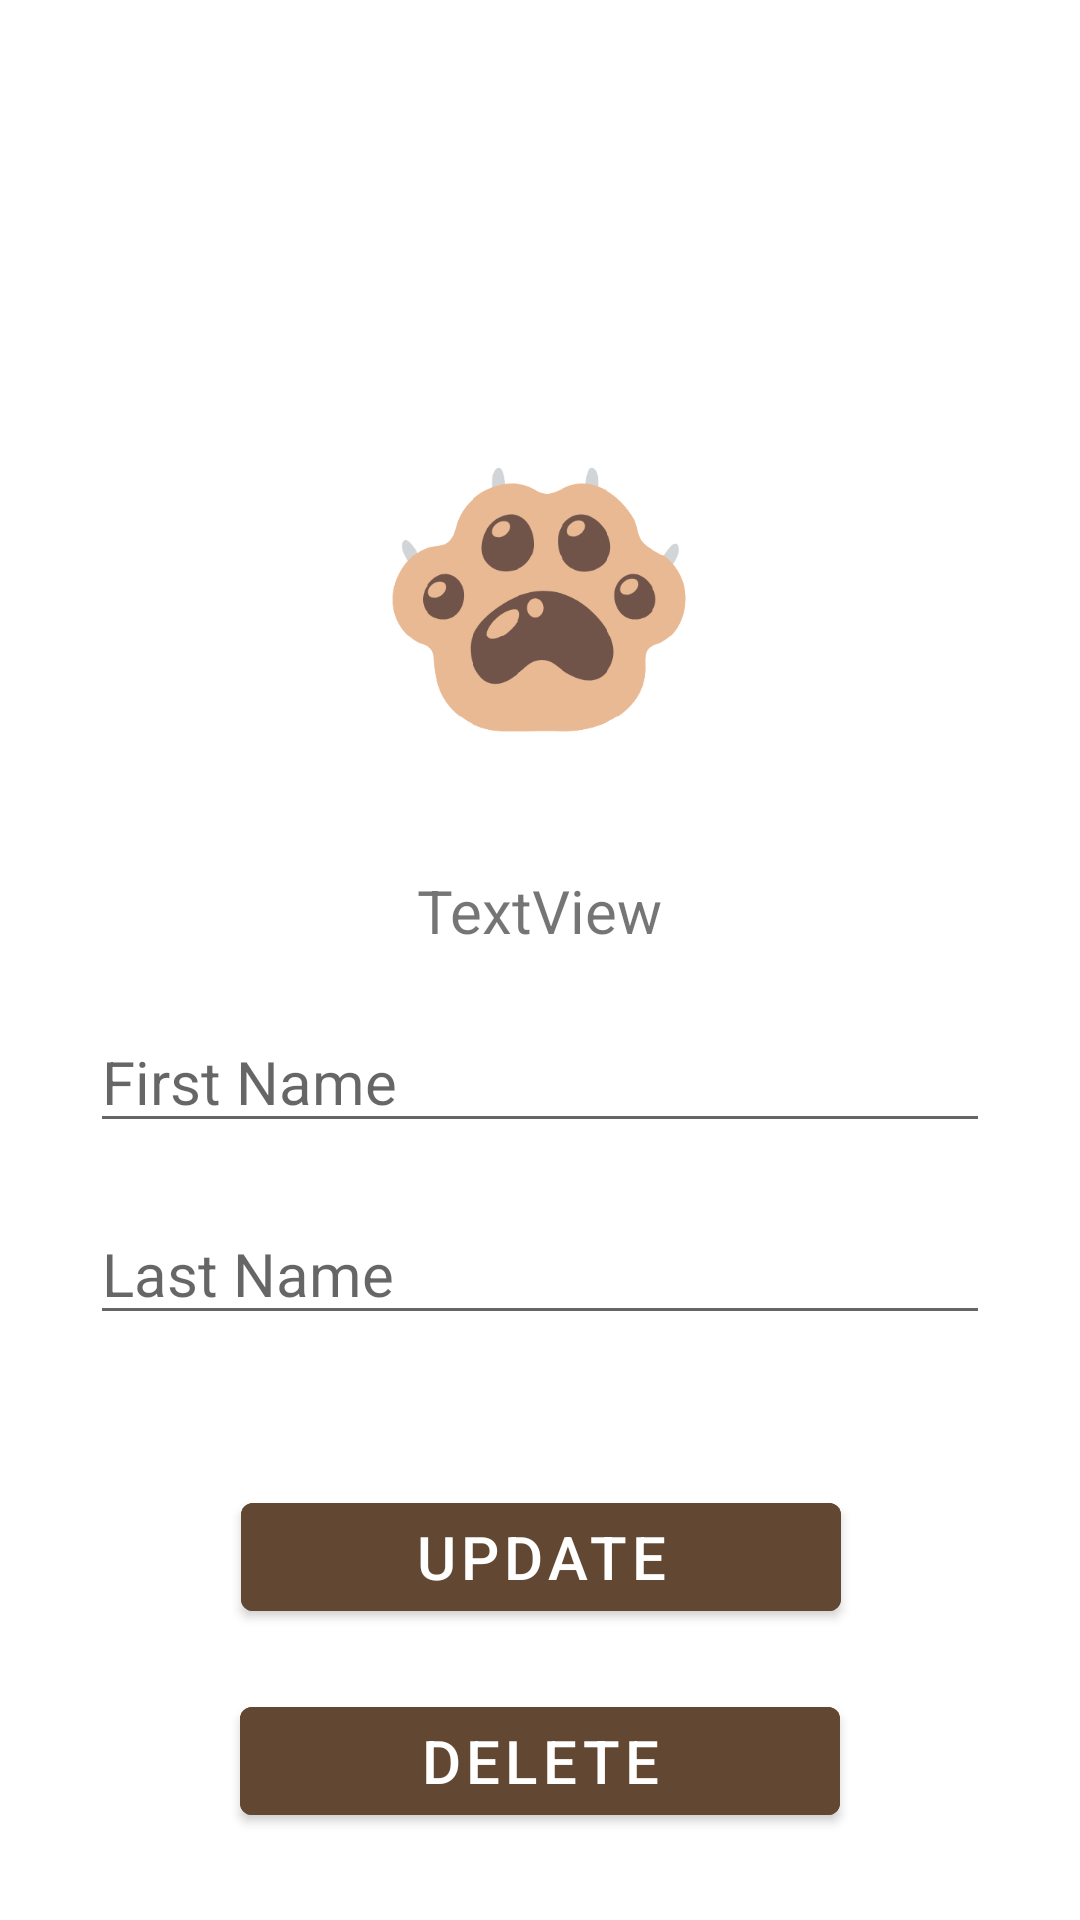

Locate icon controls on the screen. Image size 1080×1920, boxes as (x1, y1, x2, y2).
paw: (392, 468, 686, 732)
